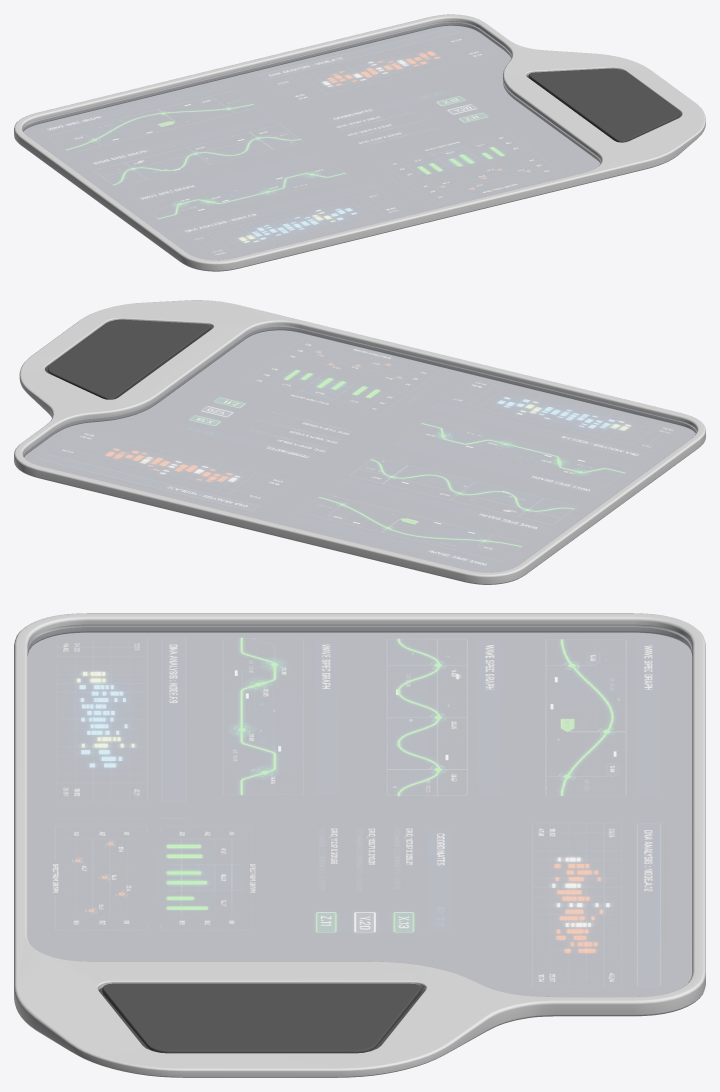
The model's file is tablet.glb.
3 renders of one model, top to bottom at view 1: azimuth 30°, elevation 25°; view 2: azimuth 150°, elevation 25°; view 3: azimuth 270°, elevation 25°, orthographic. The views are drawn at different scales.
Parts seen in each view (by area): view 1: Sci-fi Tablet; view 2: Sci-fi Tablet; view 3: Sci-fi Tablet.
Part boxes in pixels (x1,y1,x2,y2): Sci-fi Tablet: (14,14,705,271); Sci-fi Tablet: (14,300,705,584); Sci-fi Tablet: (14,613,705,1077).
Size of the model in its own units: 0.3114 by 0.0051 by 0.2005.
4 materials, 1 textured.
